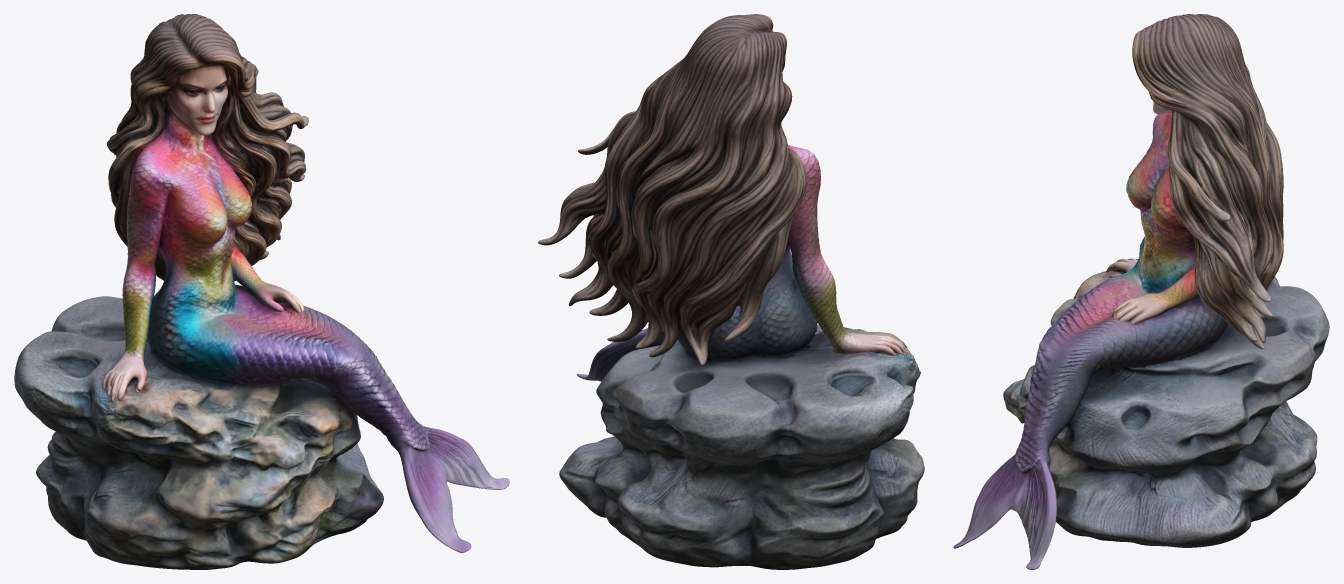
3 renders of one model, left to right at view 1: azimuth 30°, elevation 25°; view 2: azimuth 150°, elevation 25°; view 3: azimuth 270°, elevation 25°, orthographic. The views are drawn at different scales.
Visible parts, largest first — view 1: tripo_node_366726f5-7201-4516-a677-2aeb9c101fbc; view 2: tripo_node_366726f5-7201-4516-a677-2aeb9c101fbc; view 3: tripo_node_366726f5-7201-4516-a677-2aeb9c101fbc.
Boxes of the visible parts, x1,y1,x2,y2 form: tripo_node_366726f5-7201-4516-a677-2aeb9c101fbc: [14, 14, 509, 569]; tripo_node_366726f5-7201-4516-a677-2aeb9c101fbc: [538, 14, 924, 569]; tripo_node_366726f5-7201-4516-a677-2aeb9c101fbc: [953, 14, 1329, 569].
Size of the model in its own units: 0.8427 by 0.9792 by 0.7182.
1 material, 1 textured.
